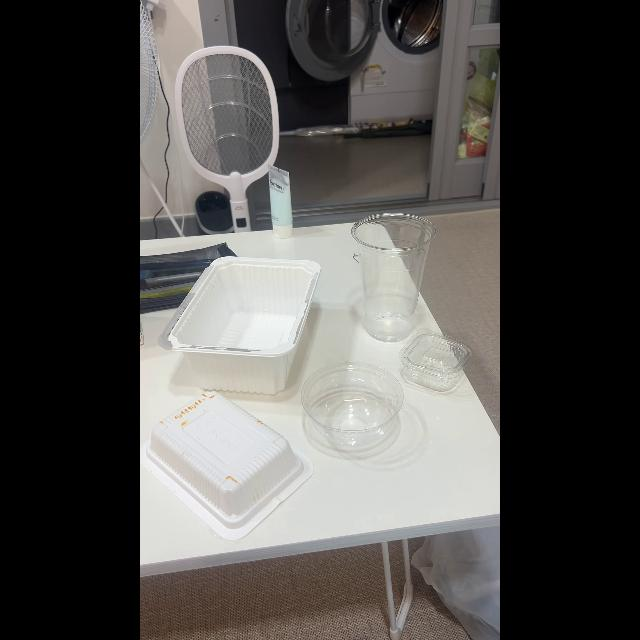clean: (159, 258, 321, 388), (304, 362, 406, 452), (356, 214, 430, 338), (399, 333, 471, 391)
dirty: (149, 390, 301, 520)
